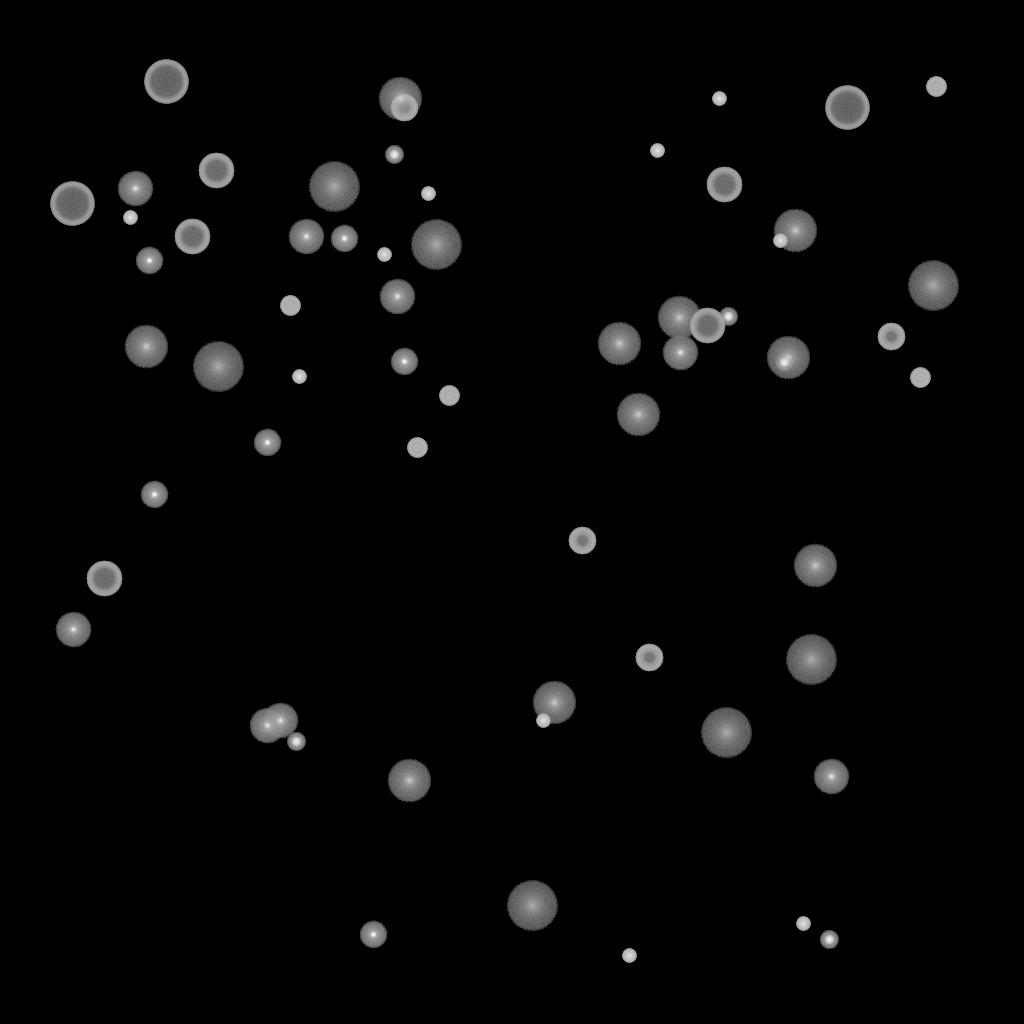depth:-10: (135, 247, 163, 275), (140, 481, 168, 509), (253, 429, 281, 457), (359, 921, 387, 949), (330, 225, 358, 253), (390, 348, 418, 376)
depth:-20: (775, 354, 793, 372), (385, 146, 403, 164), (820, 931, 838, 949), (287, 733, 305, 751), (719, 308, 737, 326)
depth:-30: (292, 370, 306, 384), (421, 187, 435, 201), (123, 211, 137, 225), (712, 92, 726, 106), (622, 949, 636, 963), (796, 917, 810, 931), (773, 234, 787, 248), (377, 248, 391, 262), (536, 714, 550, 728), (650, 144, 664, 158)
depth:-40: (407, 438, 427, 458), (280, 296, 300, 316), (926, 77, 946, 97), (910, 368, 930, 388), (439, 386, 459, 406)
depth:-50: (390, 94, 418, 122), (877, 323, 905, 351), (635, 644, 663, 672), (568, 527, 596, 555)
depth:-60: (706, 167, 742, 203), (86, 561, 122, 597), (689, 308, 725, 344), (174, 219, 210, 255), (198, 153, 234, 189)
depth:-70: (50, 182, 94, 226), (144, 60, 188, 104), (825, 86, 869, 130)
depth:0: (117, 171, 153, 207), (55, 612, 91, 648), (288, 219, 324, 255), (249, 708, 285, 744), (262, 703, 298, 739), (662, 335, 698, 371), (379, 279, 415, 315), (813, 759, 849, 795)
depth:10: (766, 336, 810, 380), (657, 296, 701, 340), (378, 77, 422, 121), (616, 393, 660, 437), (597, 322, 641, 366), (387, 759, 431, 803), (124, 325, 168, 369), (532, 681, 576, 725), (773, 209, 817, 253), (793, 544, 837, 588)
depth:20: (308, 162, 360, 212), (192, 342, 244, 392), (700, 708, 752, 758), (907, 261, 959, 311), (410, 220, 462, 270), (785, 635, 837, 685), (506, 881, 558, 931)
